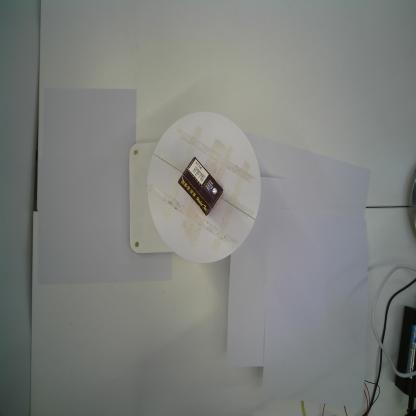Drink: (177, 158, 224, 217)
